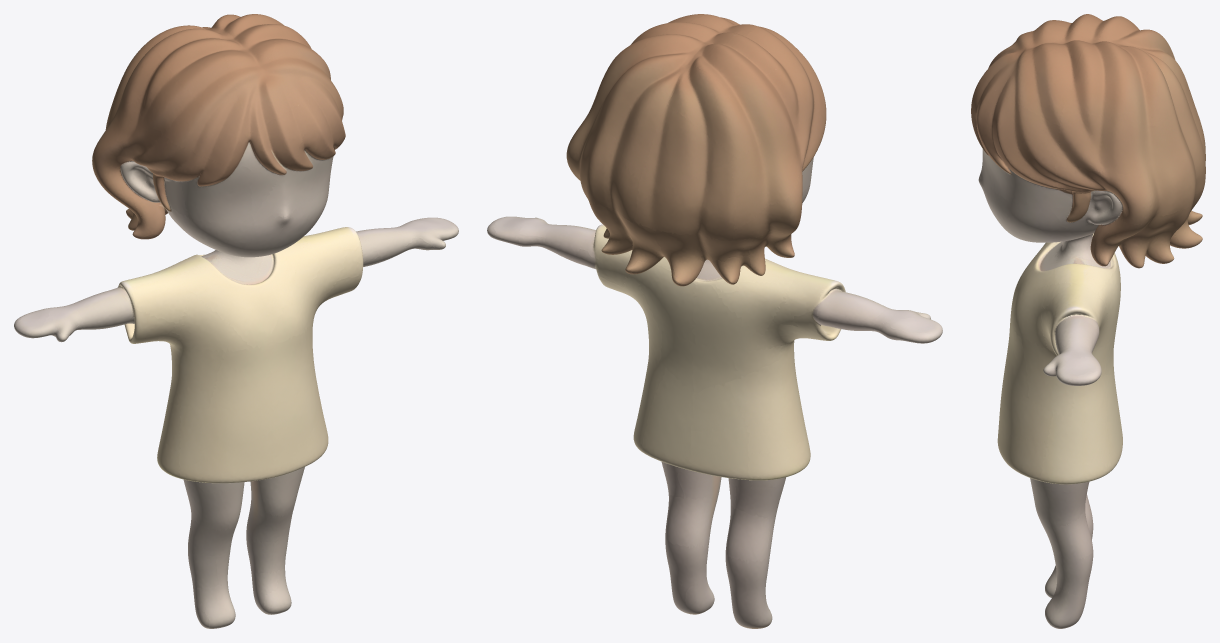
File: baked_hair_shortwavy.glb
The picture shows the model from 3 angles, left to right: view 1: azimuth 30°, elevation 25°; view 2: azimuth 150°, elevation 25°; view 3: azimuth 270°, elevation 25°; orthographic projection. The views are drawn at different scales.
Bounding box in the file's own units: 1.5 × 1.9 × 0.6996.
Materials: 1 (1 with a texture image).
